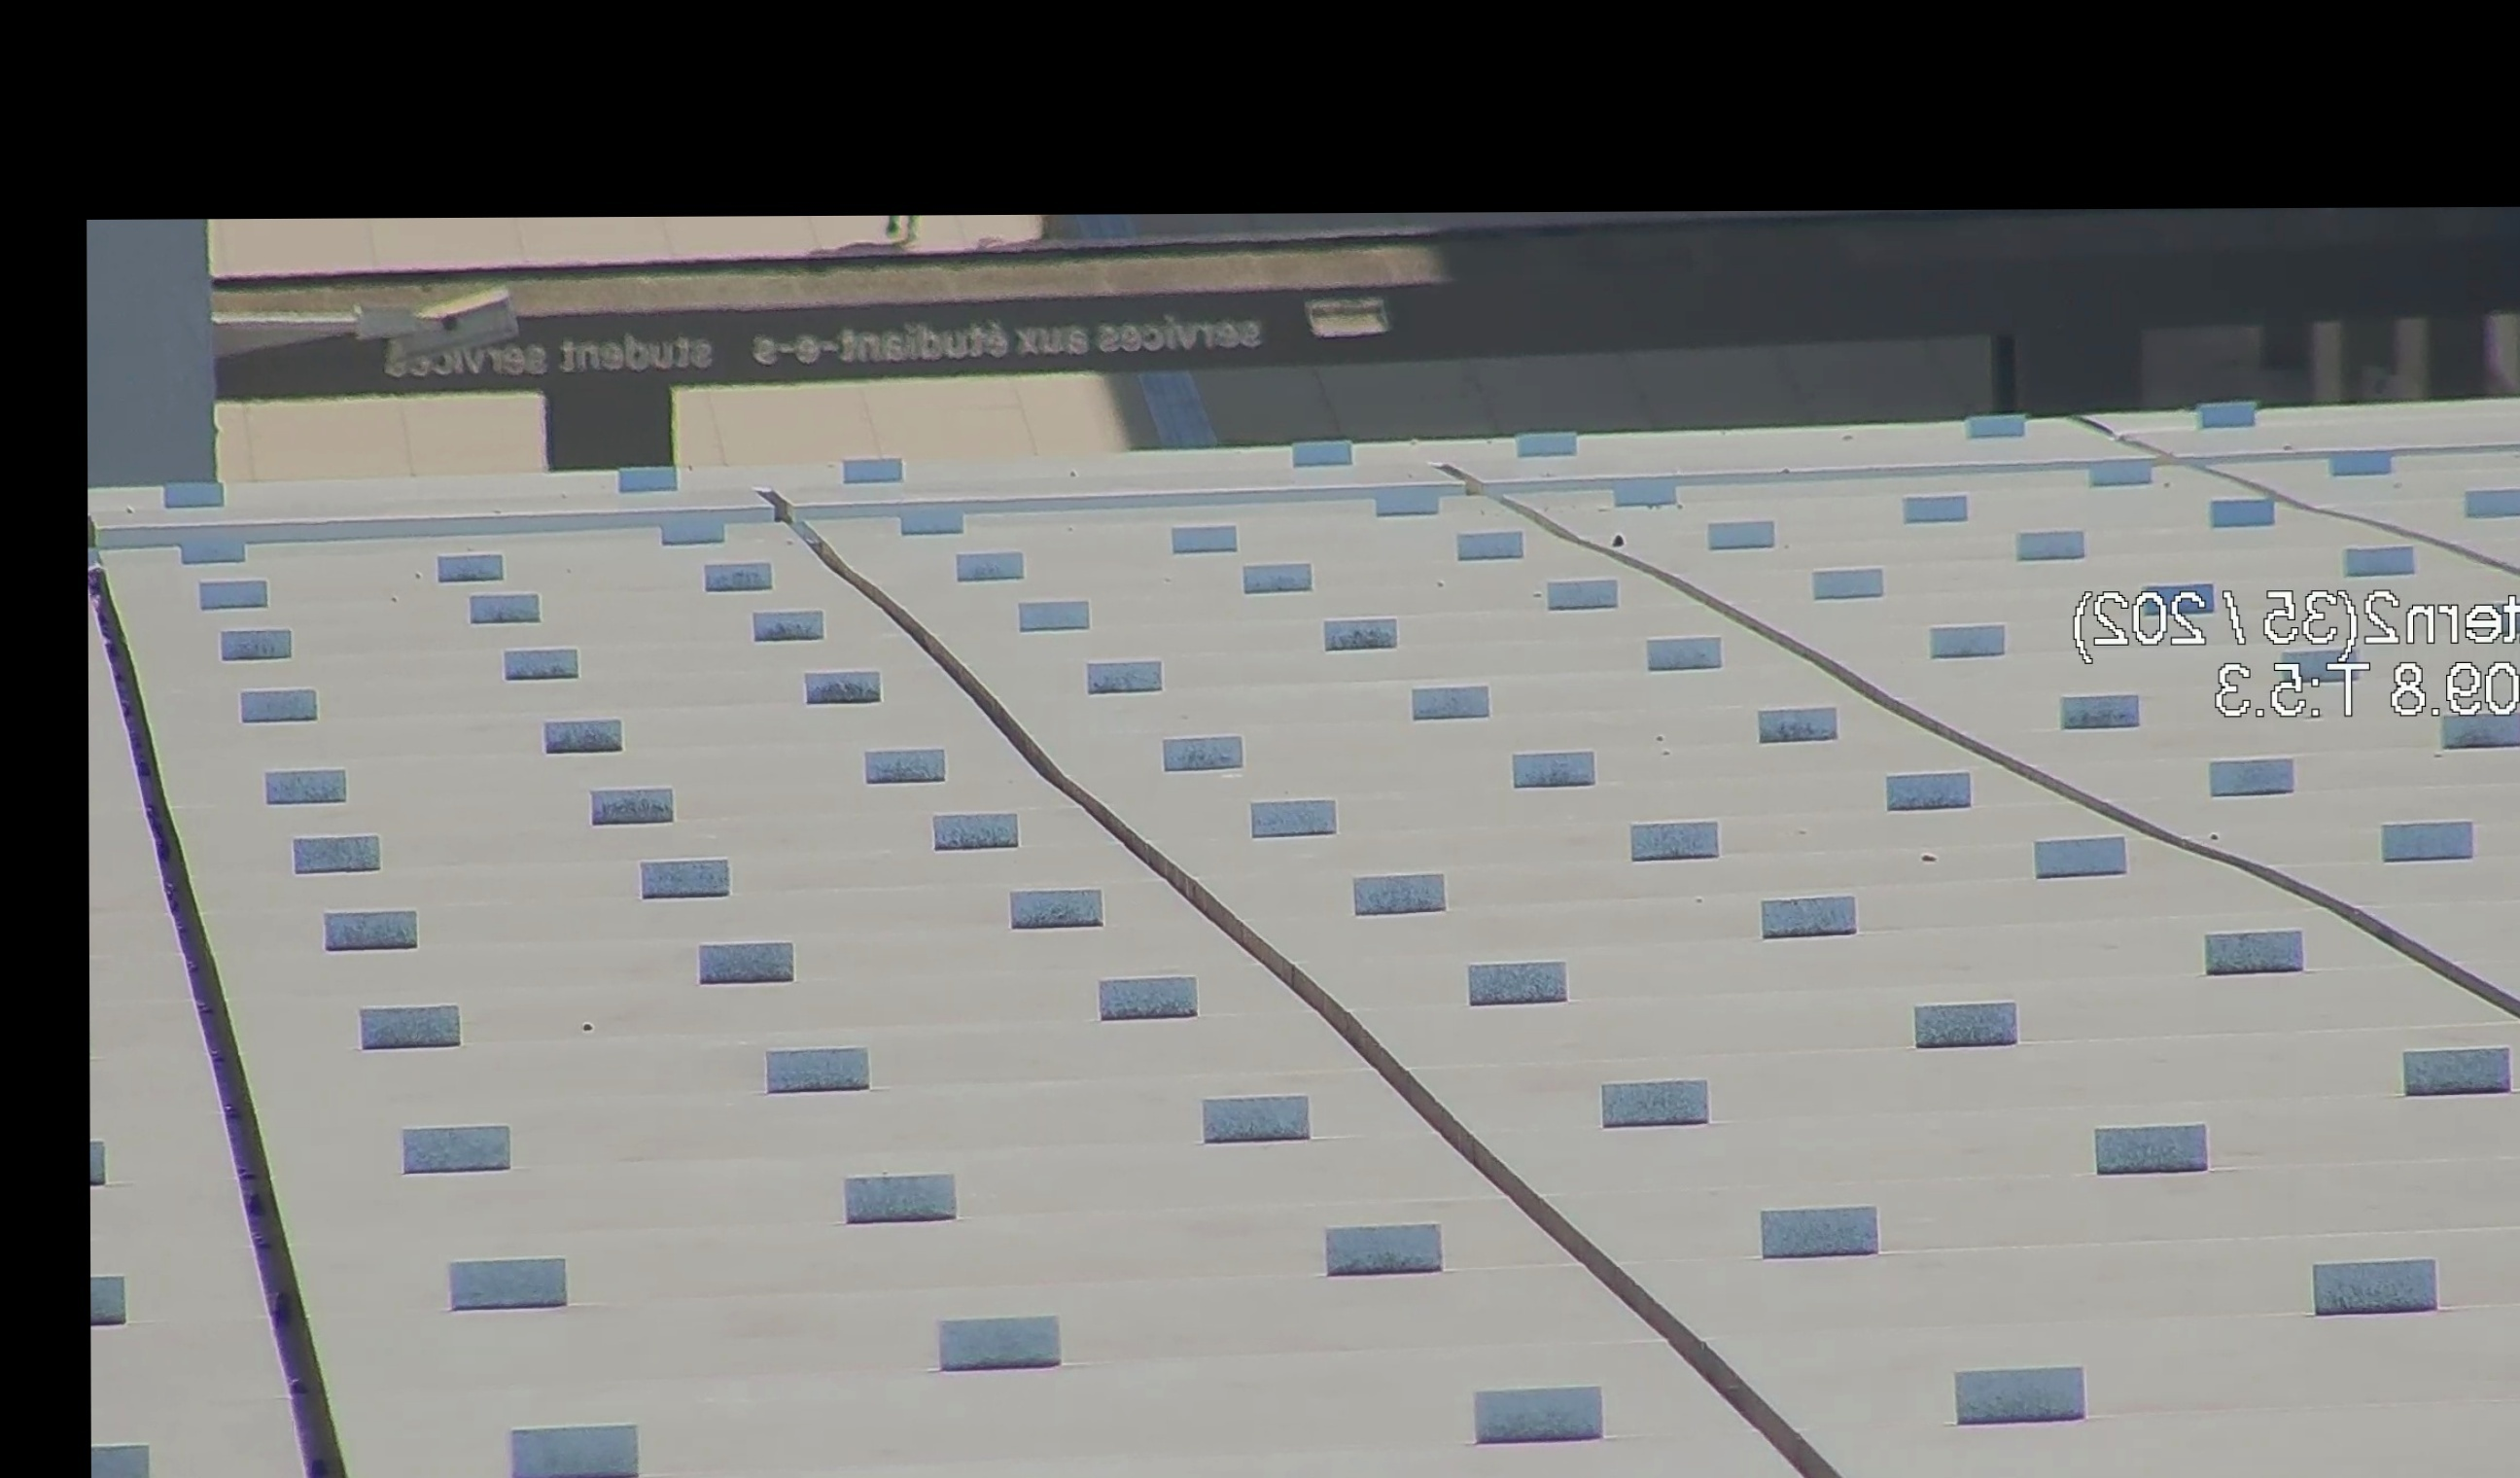Other: (844, 58, 950, 234)
